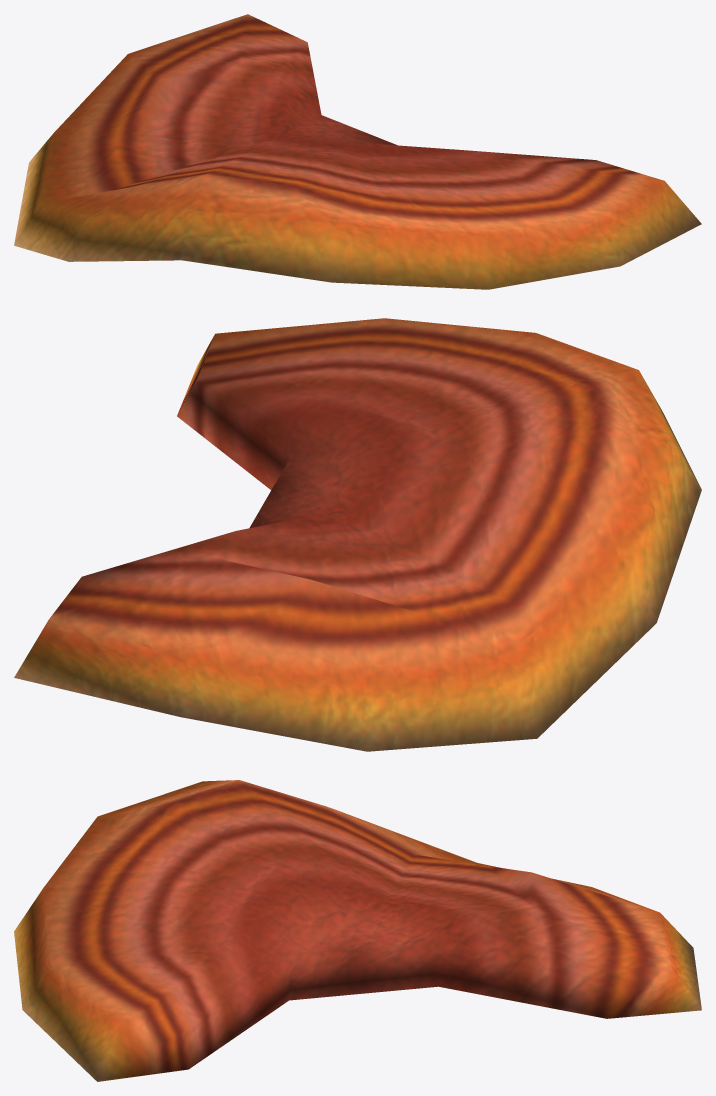
File: conks 4.fbx
3 views of the same model, one above another, from view 1: azimuth 30°, elevation 25°; view 2: azimuth 150°, elevation 25°; view 3: azimuth 270°, elevation 25° (orthographic). The views are drawn at different scales.
Parts seen in each view (by area): view 1: conks_4; view 2: conks_4; view 3: conks_4.
Boxes of the visible parts, <box> form: conks_4: <box>14,14,701,289</box>; conks_4: <box>14,318,701,751</box>; conks_4: <box>14,780,701,1081</box>.
Bounding box in the file's own units: 0.8153 × 0.23 × 0.966.
